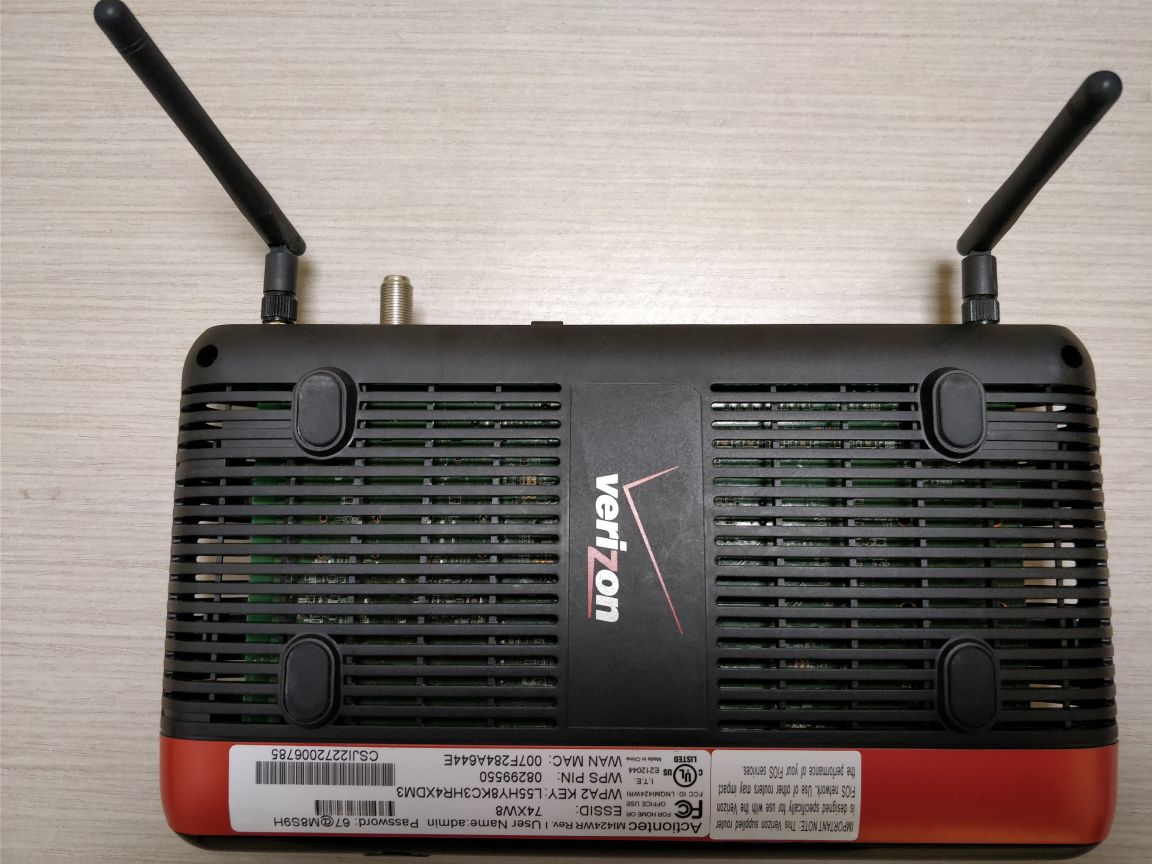Verizon Router: (84, 1, 1124, 845)
